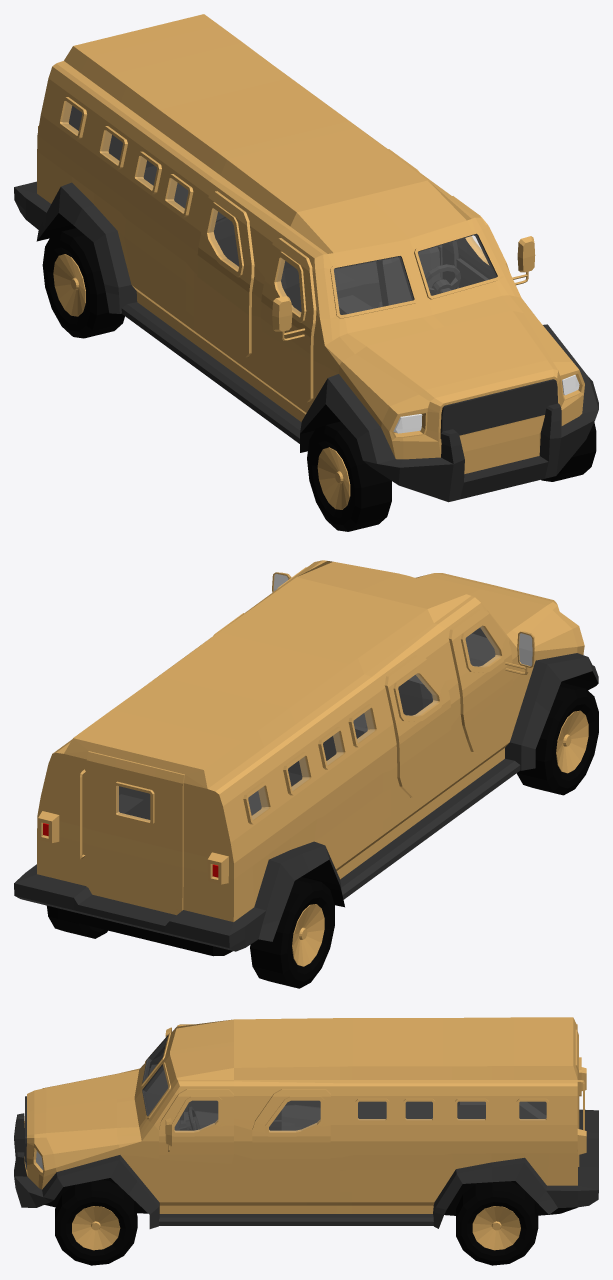
The picture shows the model from 3 angles, top to bottom: view 1: azimuth 30°, elevation 25°; view 2: azimuth 150°, elevation 25°; view 3: azimuth 270°, elevation 25°; orthographic projection. The views are drawn at different scales.
Parts seen in each view (by area): view 1: Plane.016, Plane.019, Plane.021, Plane.023, Plane.022, Cylinder.008, Cylinder.009, Plane.017, Cylinder.010; view 2: Plane.016, Plane.020, Plane.022, Plane.023, Cylinder.009, Cylinder.008, Plane.021, Plane.019, Cylinder.011; view 3: Plane.016, Plane.018, Plane.017, Cylinder.010, Cylinder.011, Plane.021, Plane.019, Plane.022, Plane.020.
Boxes of the visible parts, <box> form: Plane.016: <box>14,14,598,502</box>; Plane.019: <box>62,102,496,314</box>; Plane.021: <box>68,106,497,314</box>; Plane.023: <box>197,191,254,357</box>; Plane.022: <box>261,238,316,402</box>; Cylinder.008: <box>307,421,391,531</box>; Cylinder.009: <box>42,228,124,338</box>; Plane.017: <box>452,196,535,287</box>; Cylinder.010: <box>541,422,596,481</box>; Plane.016: <box>14,560,598,956</box>; Plane.020: <box>86,751,184,910</box>; Plane.022: <box>448,609,534,753</box>; Plane.023: <box>384,655,451,797</box>; Cylinder.009: <box>250,877,334,988</box>; Cylinder.008: <box>516,682,598,795</box>; Plane.021: <box>119,627,495,819</box>; Plane.019: <box>249,709,374,818</box>; Cylinder.011: <box>47,905,107,938</box>; Plane.016: <box>14,1017,598,1228</box>; Plane.018: <box>252,1089,330,1192</box>; Plane.017: <box>159,1089,233,1193</box>; Cylinder.010: <box>55,1180,137,1265</box>; Cylinder.011: <box>456,1181,538,1265</box>; Plane.021: <box>142,1035,546,1130</box>; Plane.019: <box>143,1038,545,1119</box>; Plane.022: <box>159,1027,218,1120</box>; Plane.020: <box>575,1029,581,1166</box>.
Bounding box in the file's own units: 295 × 257 × 751.
